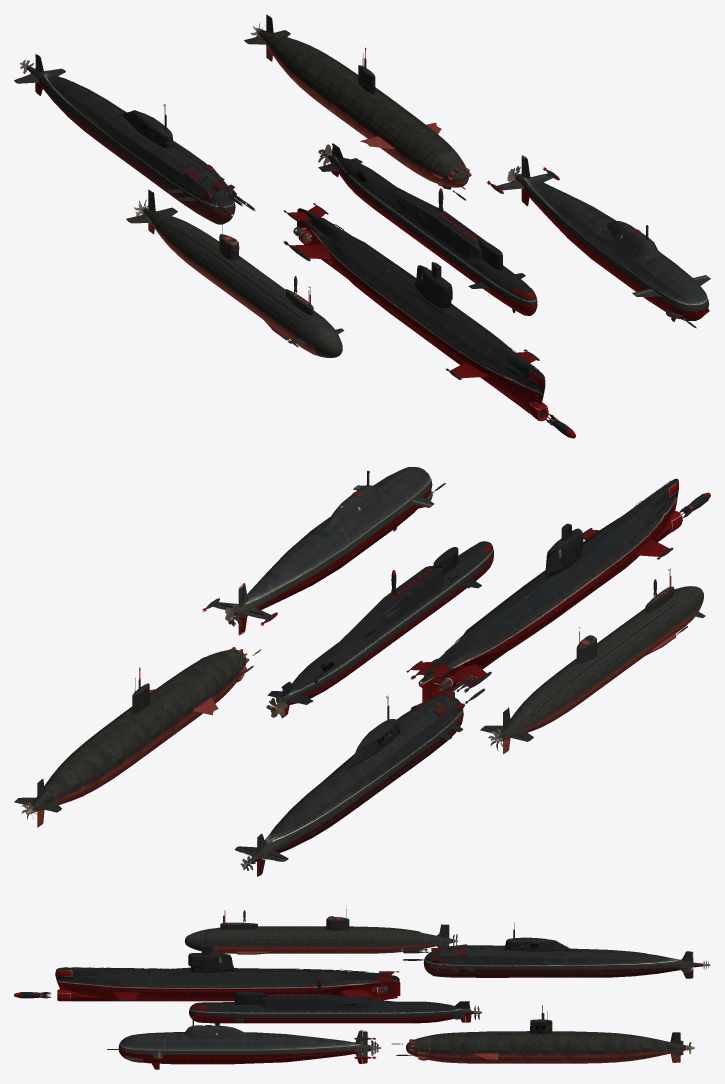
Rendered from subsu.fbx.
3 views of the same model, one above another, from view 1: azimuth 30°, elevation 25°; view 2: azimuth 150°, elevation 25°; view 3: azimuth 270°, elevation 25° (orthographic). The views are drawn at different scales.
Visible parts, largest first — view 1: body, body_2, body_4, body_1, body_5, body_3; view 2: body, body_2, body_4, body_1, body_5, body_3; view 3: body, body_2, body_4, body_1, body_3, body_5.
Part boxes in pixels (bbox=[...]): body: bbox=[293, 208, 548, 421]; body_2: bbox=[248, 30, 471, 189]; body_4: bbox=[14, 54, 236, 224]; body_1: bbox=[486, 155, 709, 320]; body_5: bbox=[129, 208, 342, 357]; body_3: bbox=[321, 143, 537, 315]; body: bbox=[418, 478, 682, 698]; body_2: bbox=[18, 647, 249, 811]; body_4: bbox=[234, 690, 464, 876]; body_1: bbox=[202, 467, 432, 635]; body_5: bbox=[484, 568, 703, 739]; body_3: bbox=[271, 541, 493, 715]; body: bbox=[55, 945, 399, 1001]; body_2: bbox=[406, 1005, 686, 1063]; body_4: bbox=[423, 922, 702, 978]; body_1: bbox=[118, 1016, 375, 1064]; body_3: bbox=[189, 992, 473, 1023]; body_5: bbox=[185, 905, 452, 954].
Size of the model in its own units: 2131 by 510 by 4886.
